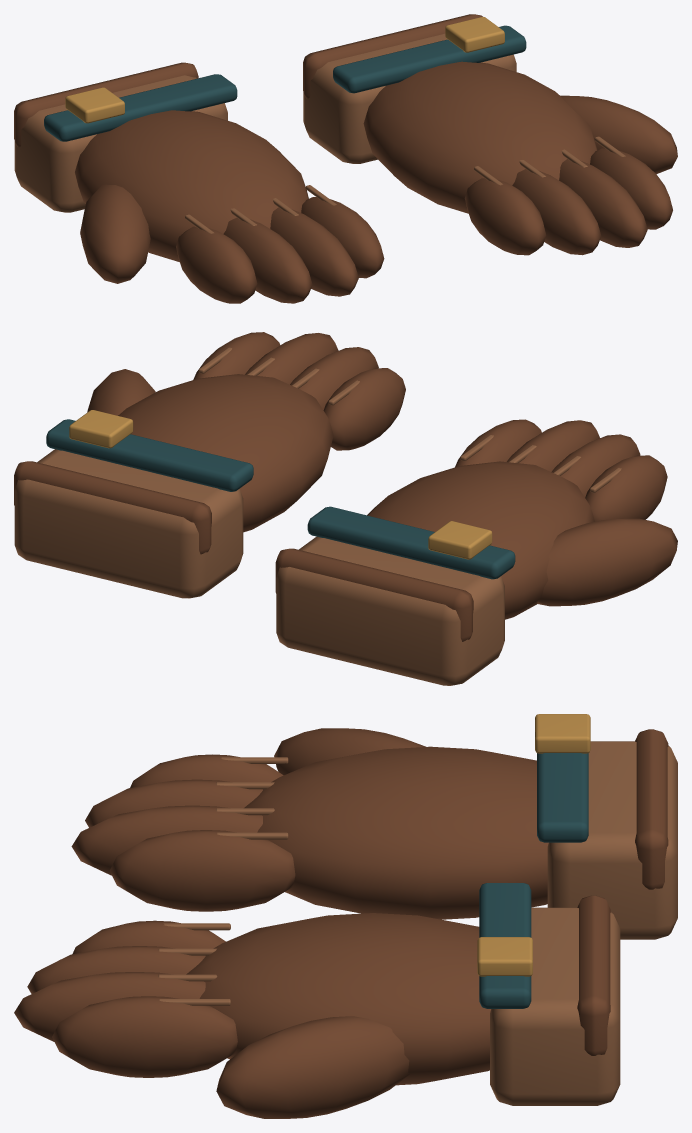
The model's file is work_gloves.glb.
3 renders of one model, top to bottom at view 1: azimuth 30°, elevation 25°; view 2: azimuth 150°, elevation 25°; view 3: azimuth 270°, elevation 25°, orthographic. The views are drawn at different scales.
Visible parts, largest first — view 1: SM_work_gloves; view 2: SM_work_gloves; view 3: SM_work_gloves.
Part boxes in pixels (x1,y1,x2,y2): SM_work_gloves: [14, 14, 677, 303]; SM_work_gloves: [14, 332, 677, 685]; SM_work_gloves: [14, 714, 677, 1118].
Bounding box in the file's own units: 0.4267 × 0.084 × 0.346.
